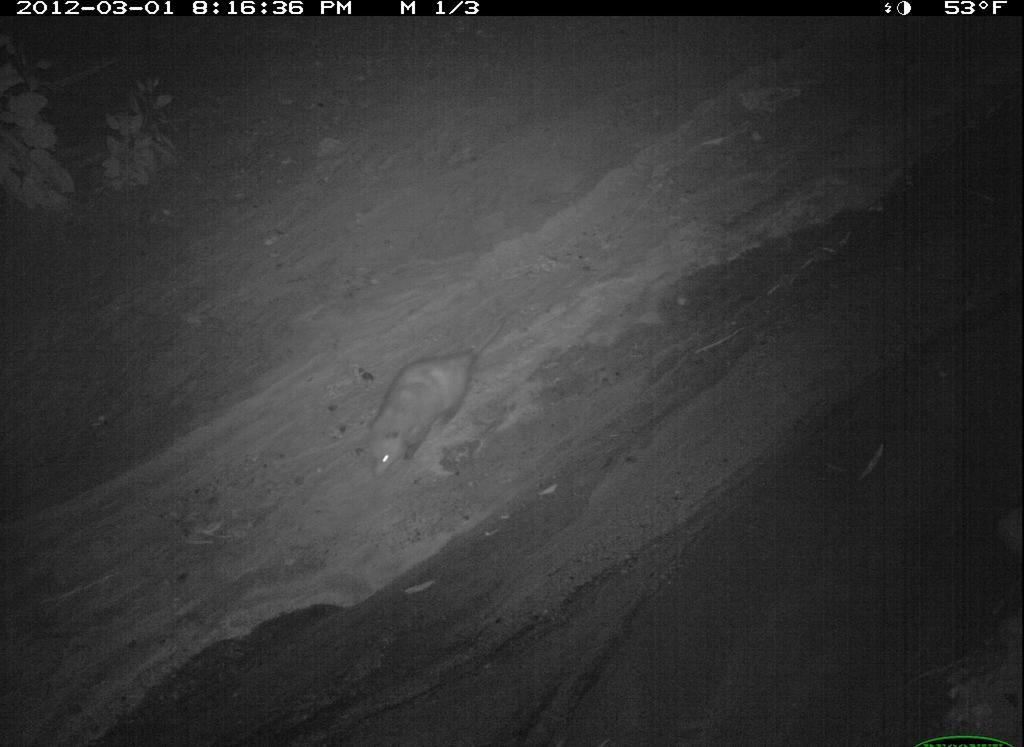opossum: (730, 622, 1024, 747)
